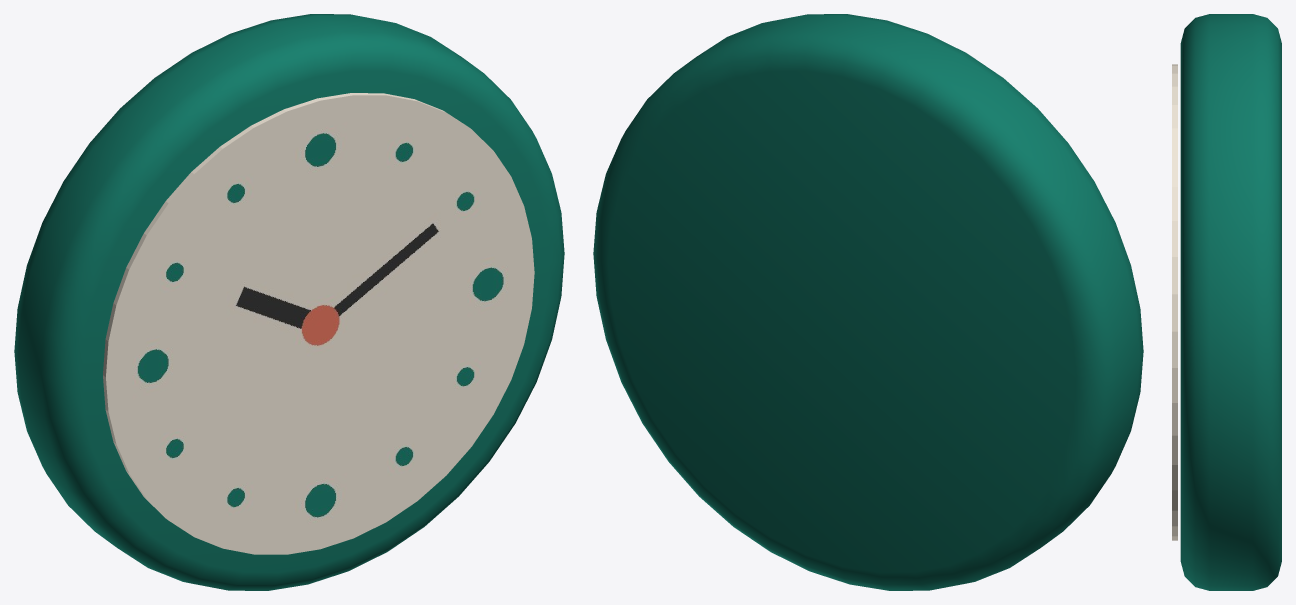
File: clock_a.glb
3 renders of one model, left to right at view 1: azimuth 30°, elevation 25°; view 2: azimuth 150°, elevation 25°; view 3: azimuth 270°, elevation 25°, orthographic. The views are drawn at different scales.
Visible parts, largest first — view 1: cyl.001, cyl; view 2: cyl; view 3: cyl, cyl.001.
Part boxes in pixels (<box>): cyl.001: <box>103,93,534,554</box>; cyl: <box>14,14,564,590</box>; cyl: <box>593,14,1143,590</box>; cyl: <box>1180,14,1281,590</box>; cyl.001: <box>1172,64,1177,540</box>.
Size of the model in its own units: 0.4 by 0.4 by 0.076.
Materials: 2 (1 with a texture image).
